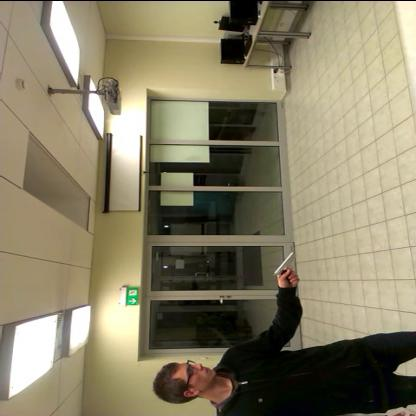Pistol: (263, 244, 309, 285)
